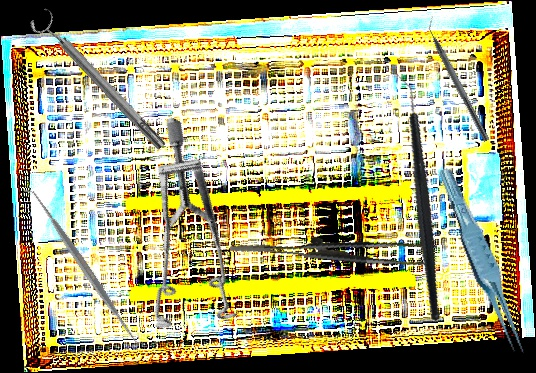Chopper: (338, 71, 496, 322), (420, 14, 498, 143)
Fixation Ring: (27, 5, 172, 158)
Spatula Surgical: (20, 180, 147, 353)
Speculum: (80, 115, 304, 358)
Tissue Forceps: (436, 162, 528, 364), (229, 210, 438, 286)
